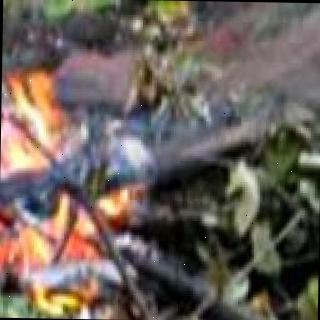fire: (0, 17, 135, 303)
